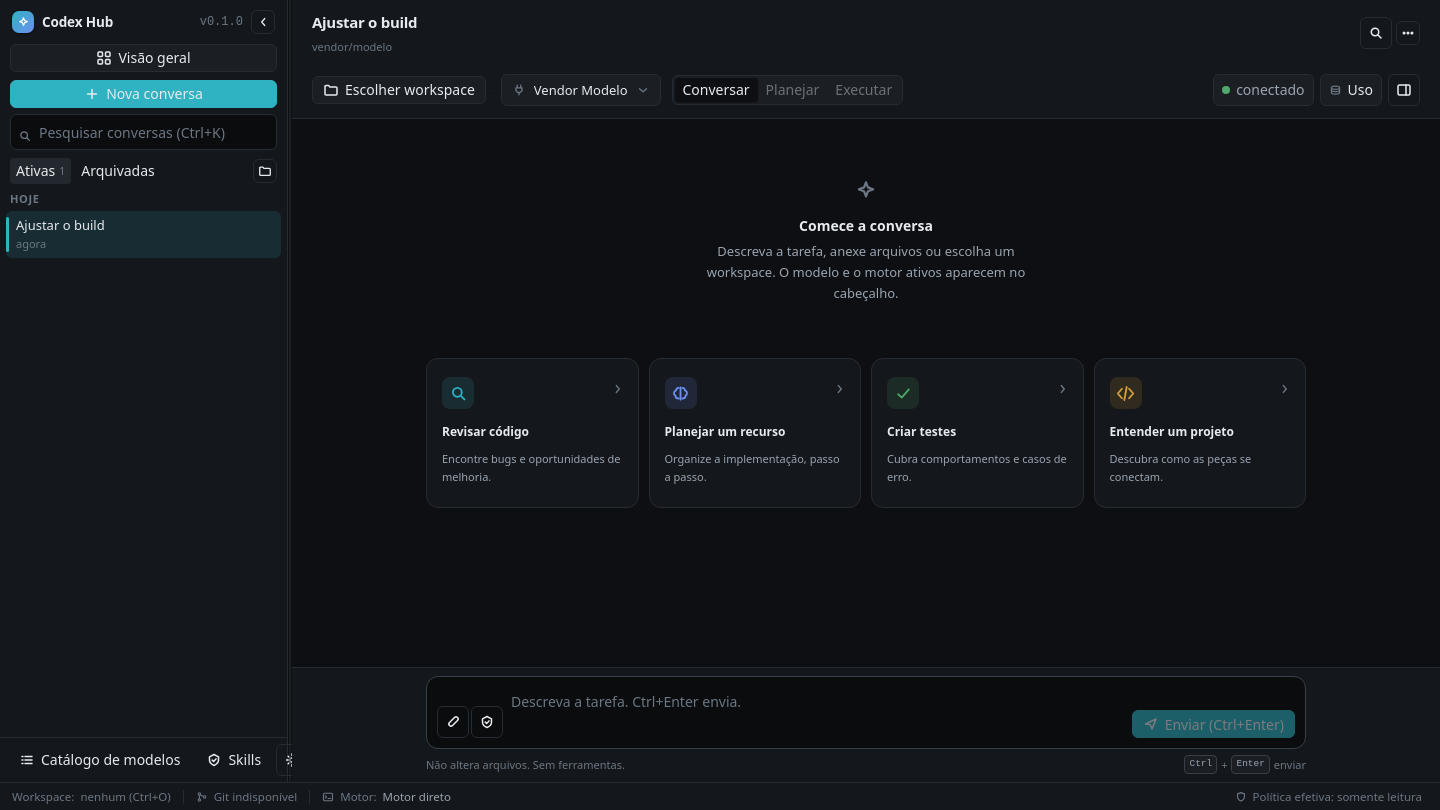
Scenario: Paleta de comandos › oferece ações da conversa atual, incluindo exportação
Click the text "Ajustar o build" at (60,225), box [16,216,105,234]
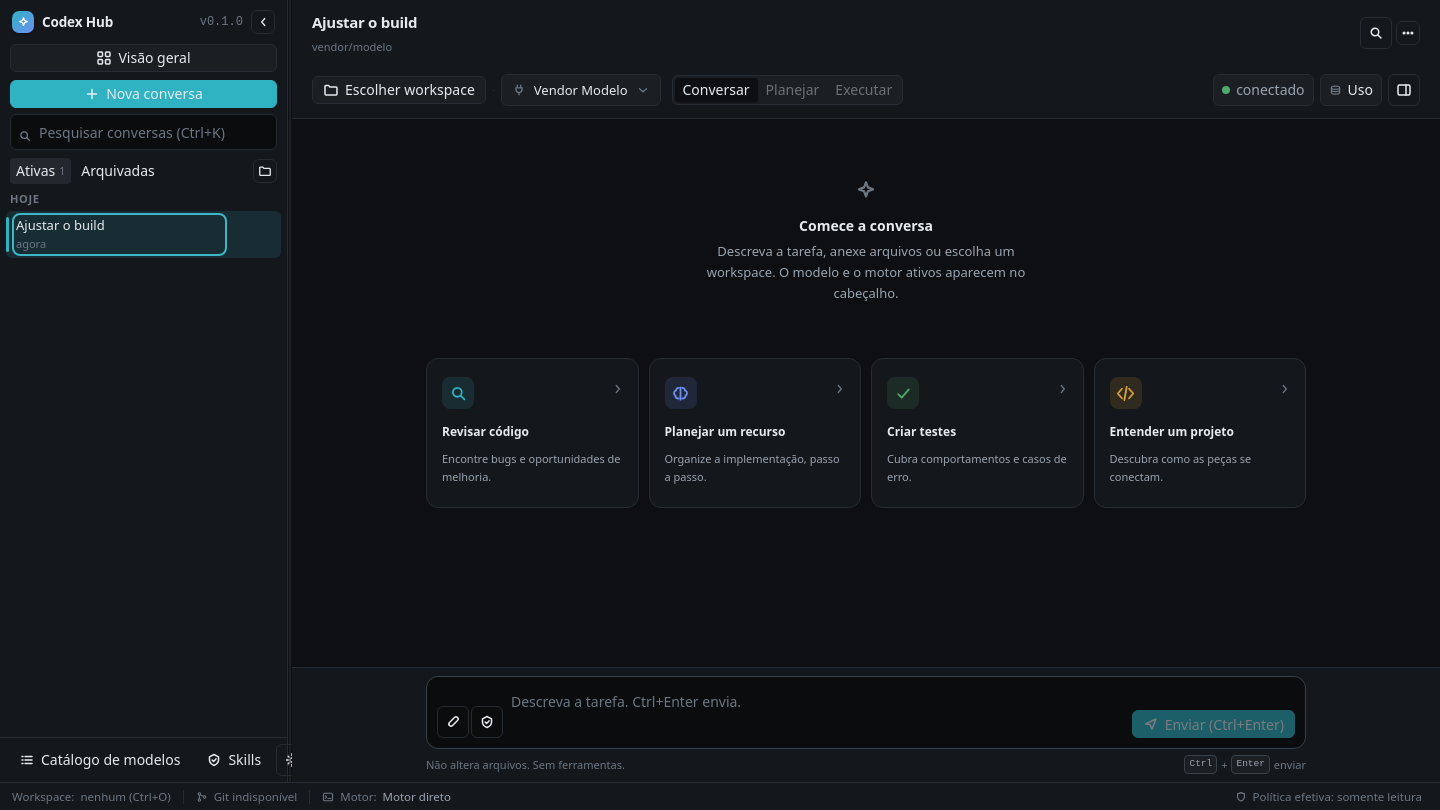
Type keys "{Control>}k{/Control}"
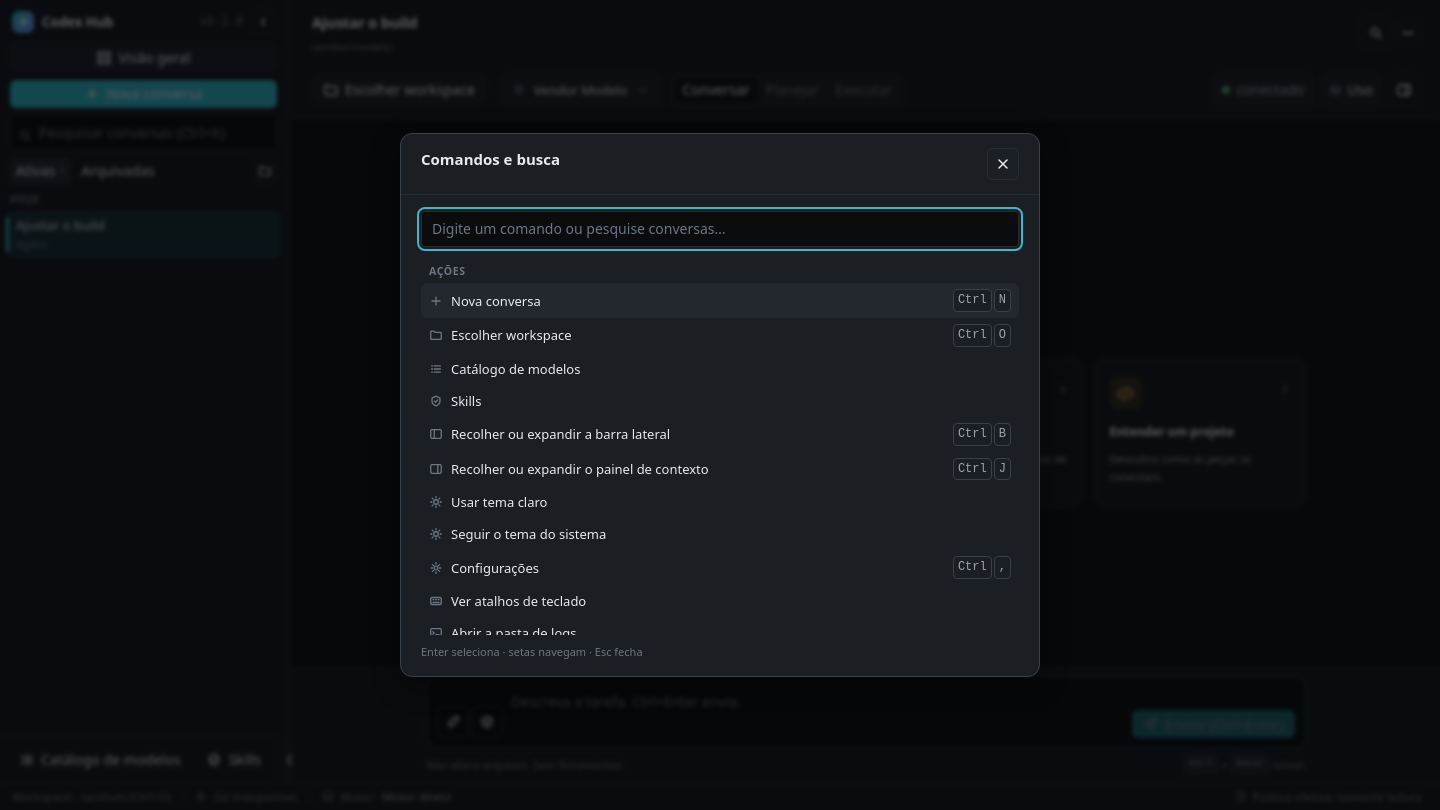
Type keys "exportar"
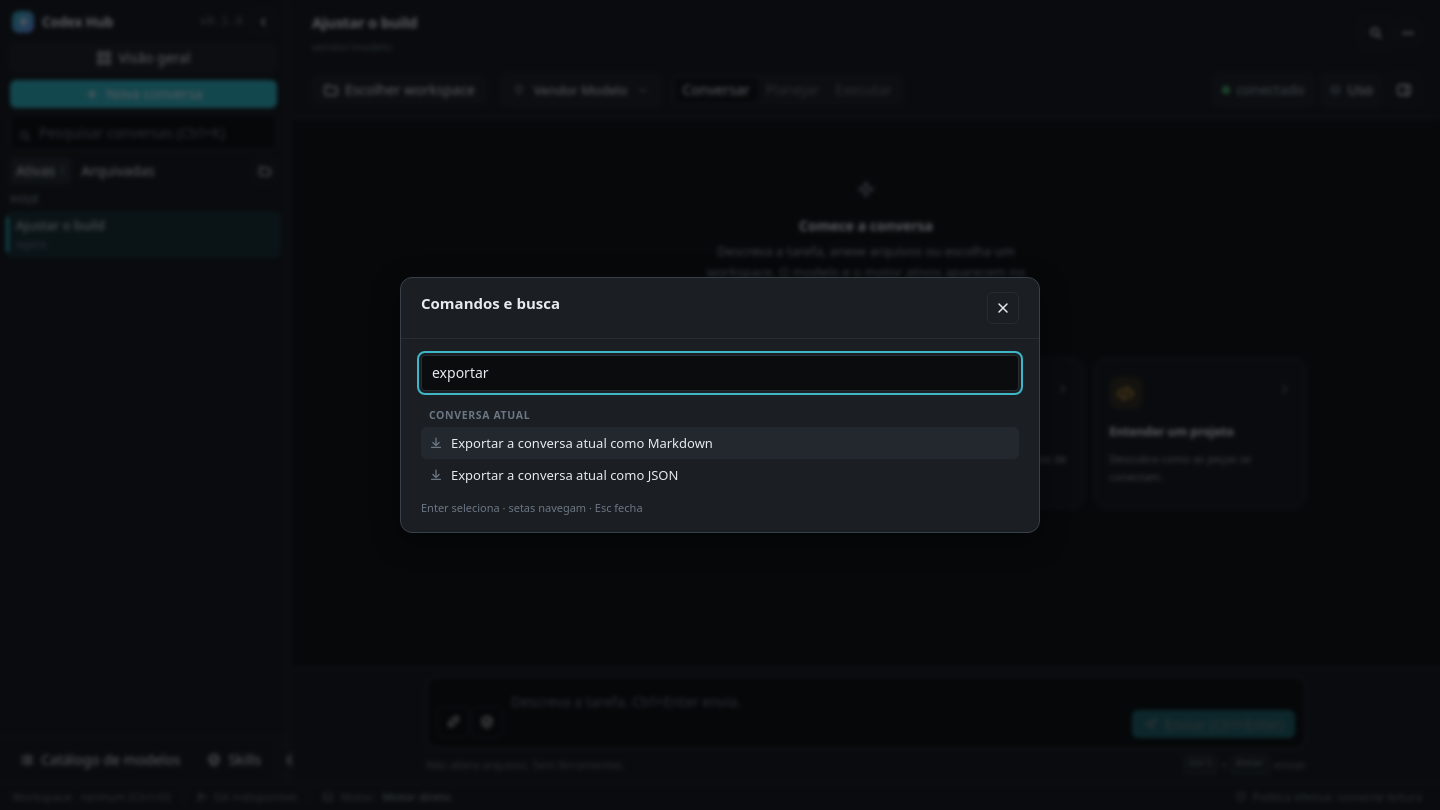
Expected: the option "Exportar a conversa atual como Markdown" is shown, [421,427,1019,459]
